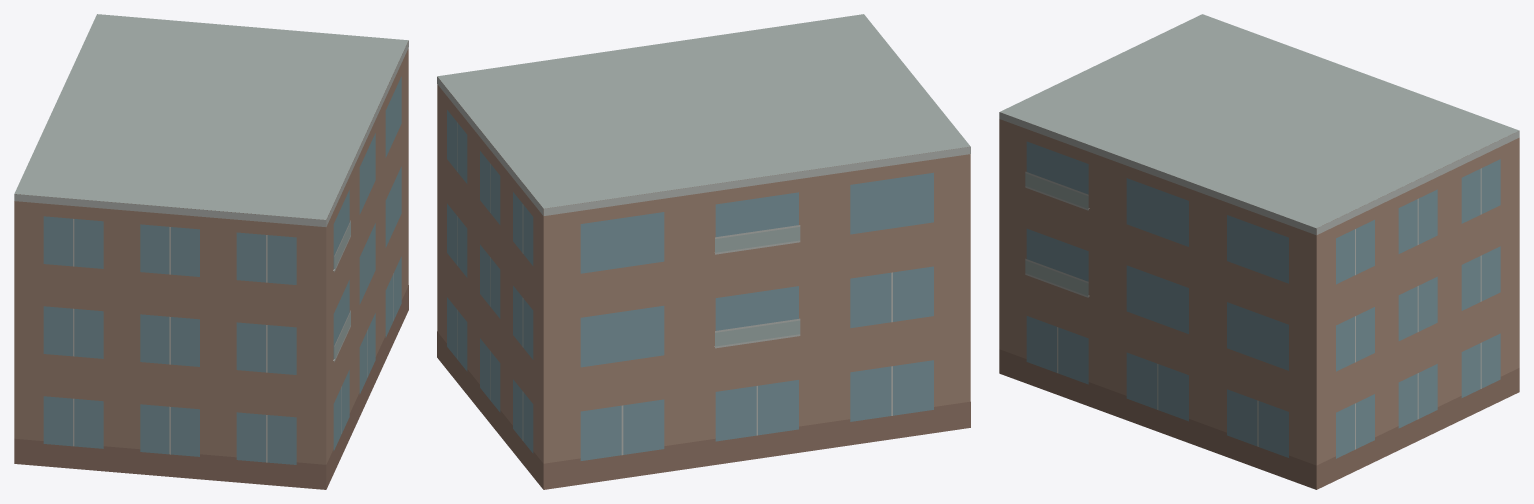
The model's file is survey-upis-33041223.glb.
The picture shows the model from 3 angles, left to right: view 1: azimuth 30°, elevation 25°; view 2: azimuth 150°, elevation 25°; view 3: azimuth 270°, elevation 25°; orthographic projection. The views are drawn at different scales.
Parts seen in each view (by area): view 1: survey-upis-33041223.tmp; view 2: survey-upis-33041223.tmp; view 3: survey-upis-33041223.tmp.
Part boxes in pixels (x1,y1,x2,y2): survey-upis-33041223.tmp: (14, 14, 408, 489); survey-upis-33041223.tmp: (437, 14, 970, 489); survey-upis-33041223.tmp: (999, 14, 1519, 489).
Bounding box in the file's own units: 16.09 × 9.15 × 16.5.
